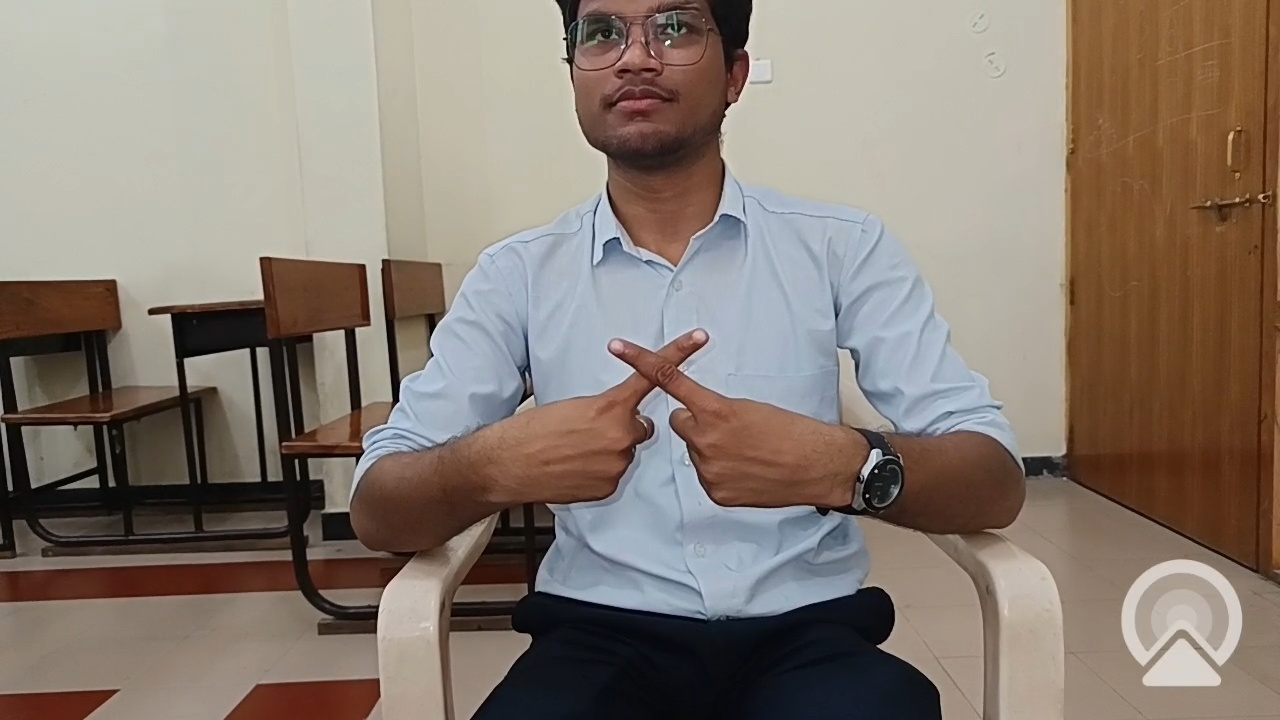X: (459, 301, 829, 569)
